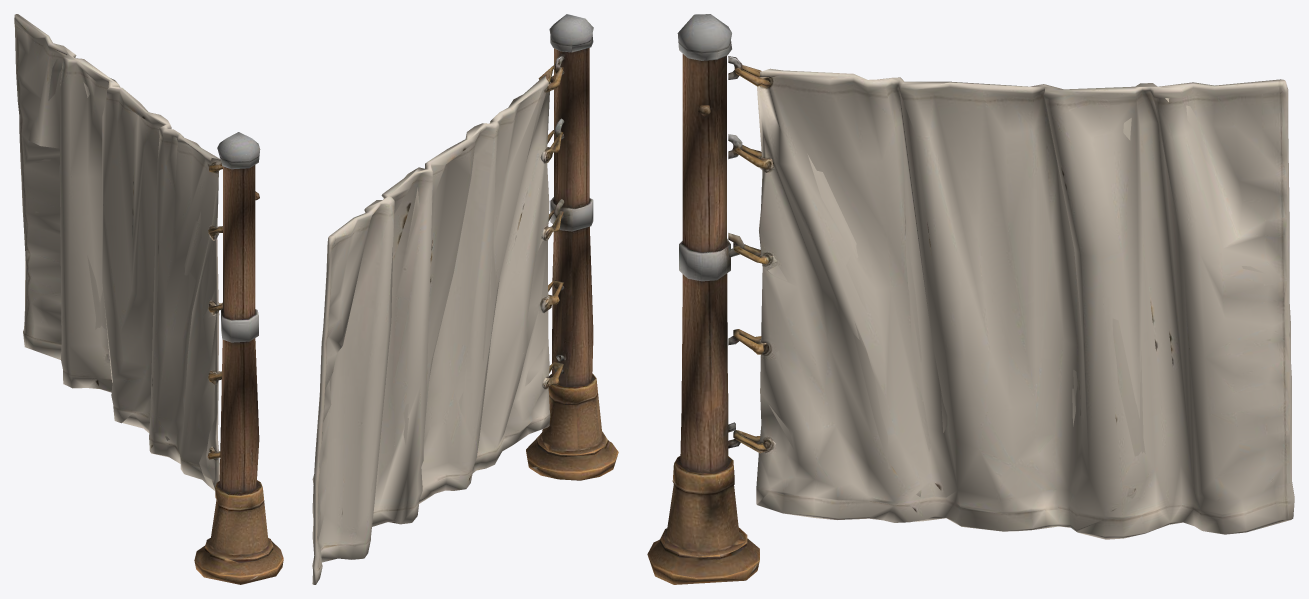
File: sanctuary-courtyard-panel-tripo-v31-v1.glb
The picture shows the model from 3 angles, left to right: view 1: azimuth 30°, elevation 25°; view 2: azimuth 150°, elevation 25°; view 3: azimuth 270°, elevation 25°; orthographic projection. The views are drawn at different scales.
Parts seen in each view (by area): view 1: tripo_node_9435ef73-aab8-4868-a51b-a4e55de1af3e; view 2: tripo_node_9435ef73-aab8-4868-a51b-a4e55de1af3e; view 3: tripo_node_9435ef73-aab8-4868-a51b-a4e55de1af3e.
Part boxes in pixels (bbox=[...]): tripo_node_9435ef73-aab8-4868-a51b-a4e55de1af3e: bbox=[14, 14, 283, 584]; tripo_node_9435ef73-aab8-4868-a51b-a4e55de1af3e: bbox=[312, 14, 618, 584]; tripo_node_9435ef73-aab8-4868-a51b-a4e55de1af3e: bbox=[647, 14, 1294, 584].
Bounding box in the file's own units: 0.1898 × 0.9295 × 1.
Materials: 1 (1 with a texture image).
